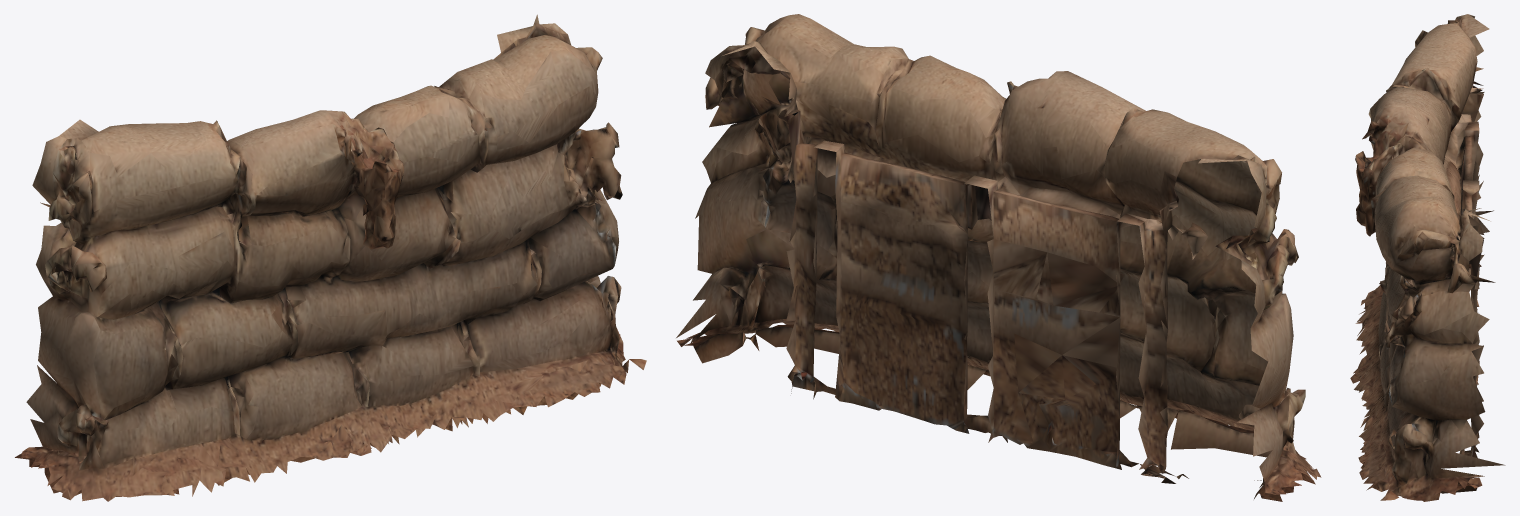
File: Sandbag_Wall.fbx
The picture shows the model from 3 angles, left to right: view 1: azimuth 30°, elevation 25°; view 2: azimuth 150°, elevation 25°; view 3: azimuth 270°, elevation 25°; orthographic projection. The views are drawn at different scales.
Visible parts, largest first — view 1: Sandbag_Wall_LOD0; view 2: Sandbag_Wall_LOD0; view 3: Sandbag_Wall_LOD0.
Part boxes in pixels (bbox=[...]): Sandbag_Wall_LOD0: bbox=[15, 14, 646, 501]; Sandbag_Wall_LOD0: bbox=[676, 14, 1321, 501]; Sandbag_Wall_LOD0: bbox=[1350, 14, 1505, 501].
Size of what is drawn, in the model's own units: 200 by 110 by 55.
Materials: 1 (1 with a texture image).
